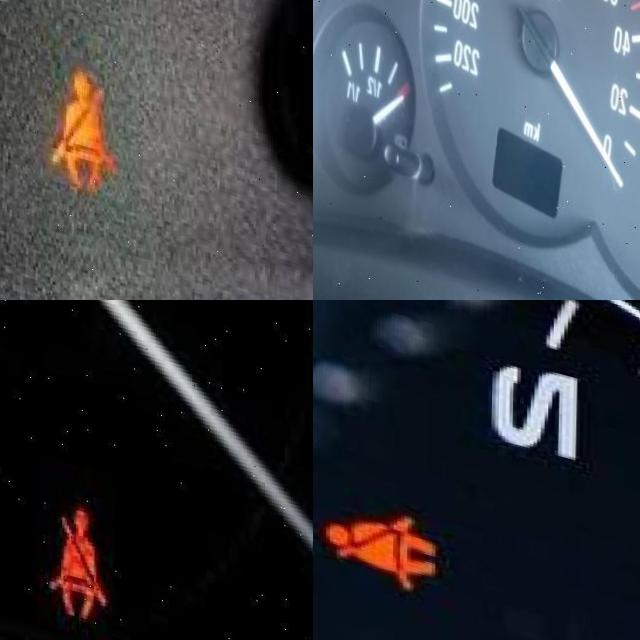Seat Belt: (328, 483, 440, 575), (54, 50, 120, 177), (51, 492, 108, 617)
